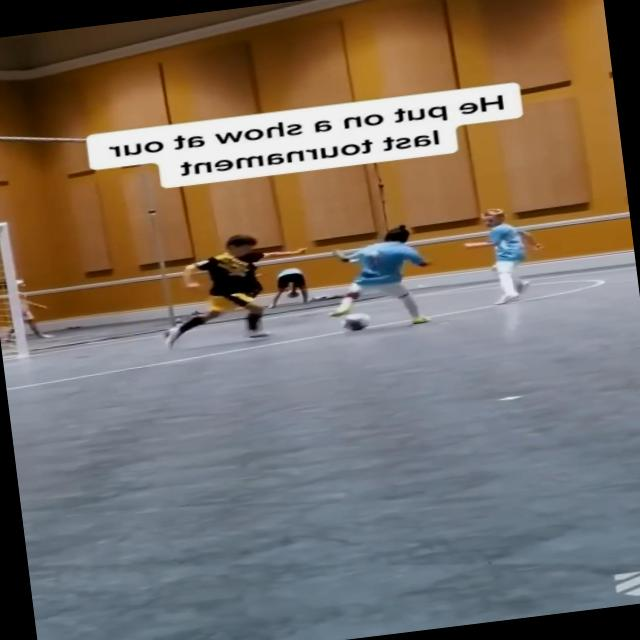Soccer Ball: (339, 311, 372, 332)
